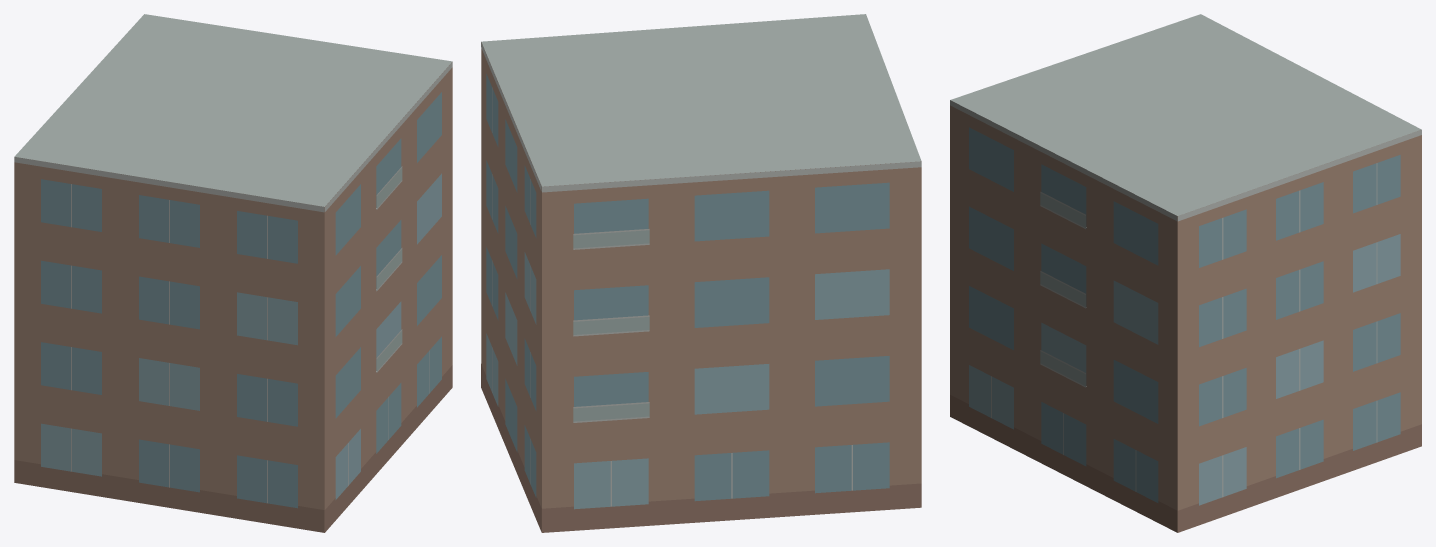
The model's file is survey-upis-32781314.glb.
3 views of the same model, side by side, from view 1: azimuth 30°, elevation 25°; view 2: azimuth 150°, elevation 25°; view 3: azimuth 270°, elevation 25° (orthographic). The views are drawn at different scales.
Visible parts, largest first — view 1: survey-upis-32781314.tmp; view 2: survey-upis-32781314.tmp; view 3: survey-upis-32781314.tmp.
Boxes of the visible parts, box(x1,y1,x2,y2) form: survey-upis-32781314.tmp: box(14, 14, 452, 532); survey-upis-32781314.tmp: box(481, 14, 921, 532); survey-upis-32781314.tmp: box(950, 14, 1421, 532).
Size of the model in its own units: 19.66 by 14.35 by 19.38.
